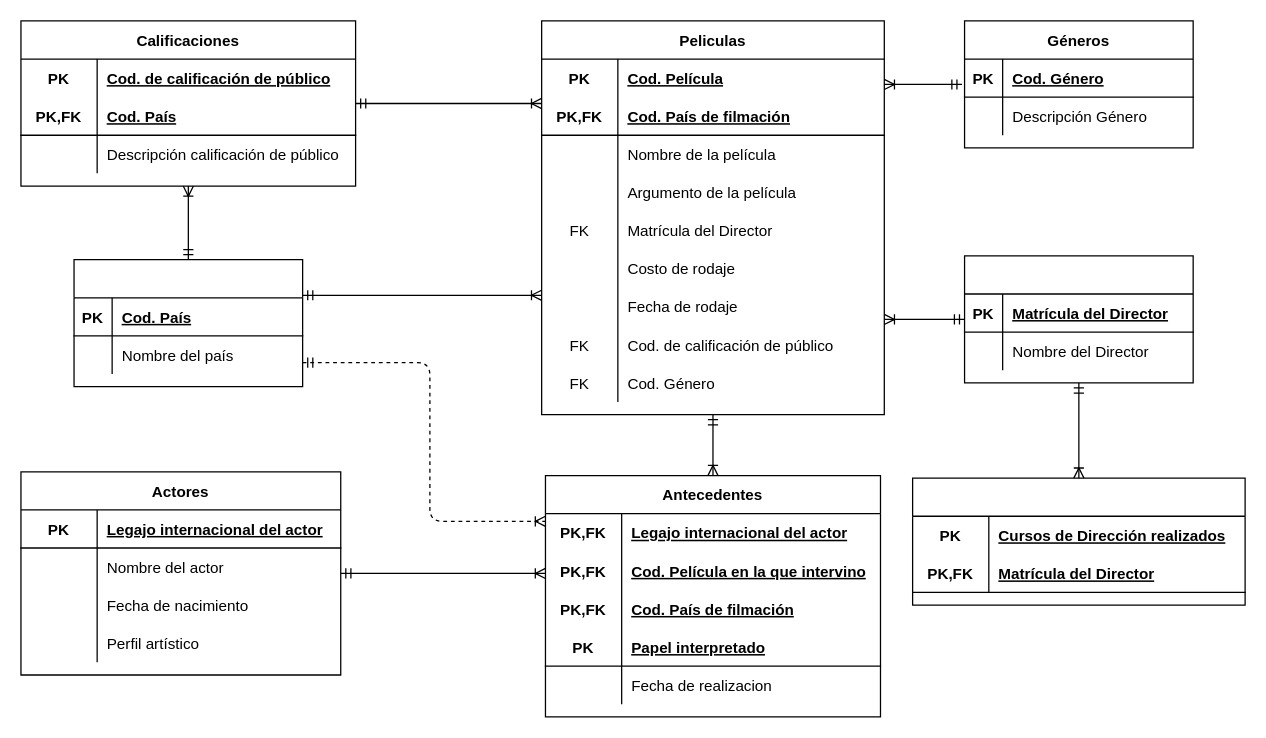
Image size: 1266x738. Some labels were removed from this diagram. Here are the shapes that lost their labels. From the top down, the box of each, then its label:
(73, 258, 303, 387): Paises
(963, 255, 1193, 383): Directores
(911, 477, 1245, 605): CursosDireccion
